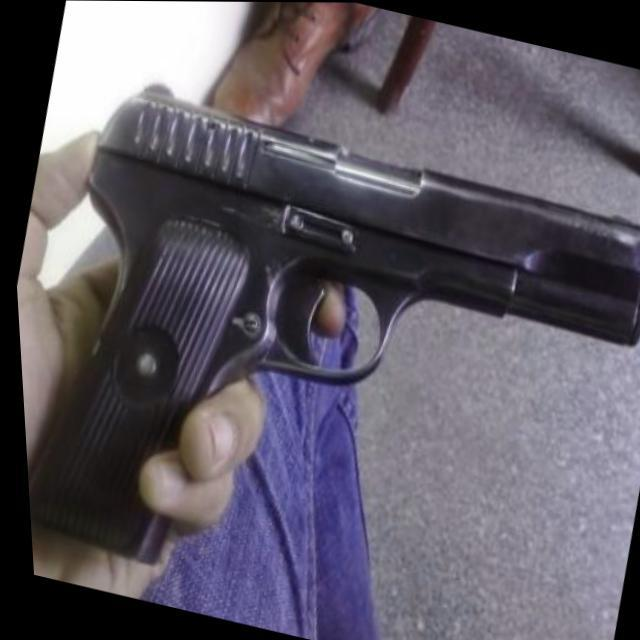weapon: (3, 54, 640, 640)
